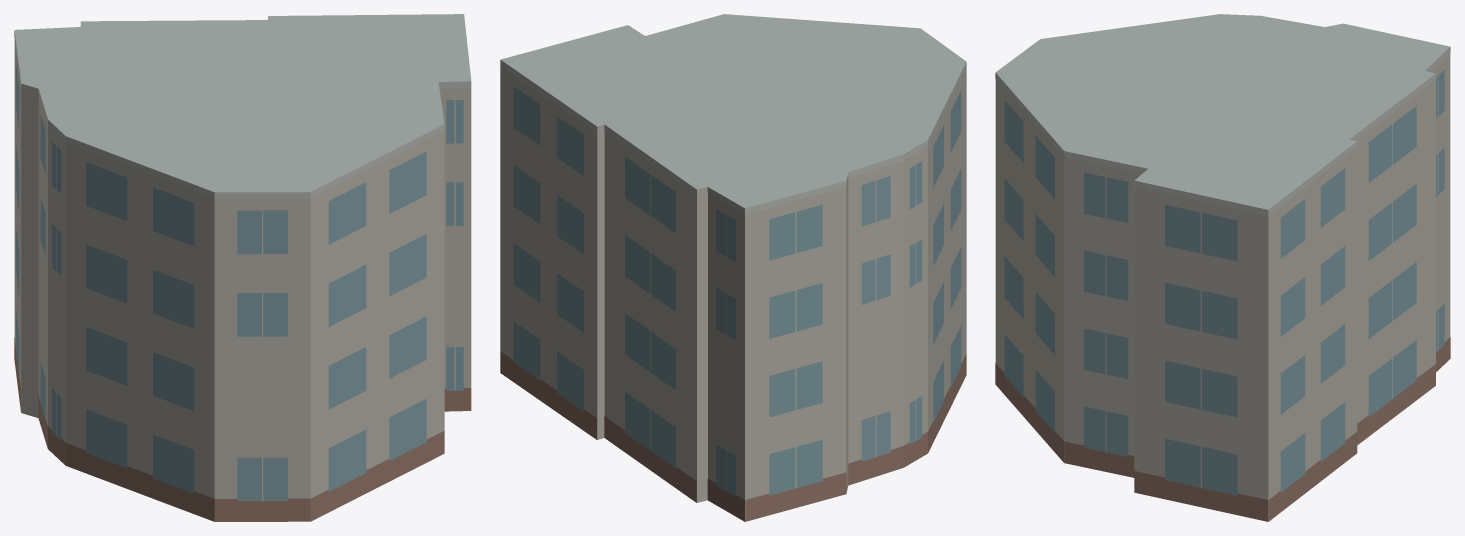
The model's file is survey-upis-32608345.glb.
The picture shows the model from 3 angles, left to right: view 1: azimuth 30°, elevation 25°; view 2: azimuth 150°, elevation 25°; view 3: azimuth 270°, elevation 25°; orthographic projection. The views are drawn at different scales.
Parts seen in each view (by area): view 1: survey-upis-32608345.tmp; view 2: survey-upis-32608345.tmp; view 3: survey-upis-32608345.tmp.
Boxes of the visible parts, left/top/right/bottom form: survey-upis-32608345.tmp: left=14, top=14, right=471, bottom=521; survey-upis-32608345.tmp: left=500, top=14, right=966, bottom=521; survey-upis-32608345.tmp: left=995, top=14, right=1450, bottom=521.
Size of the model in its own units: 16.97 by 12.6 by 16.66.
